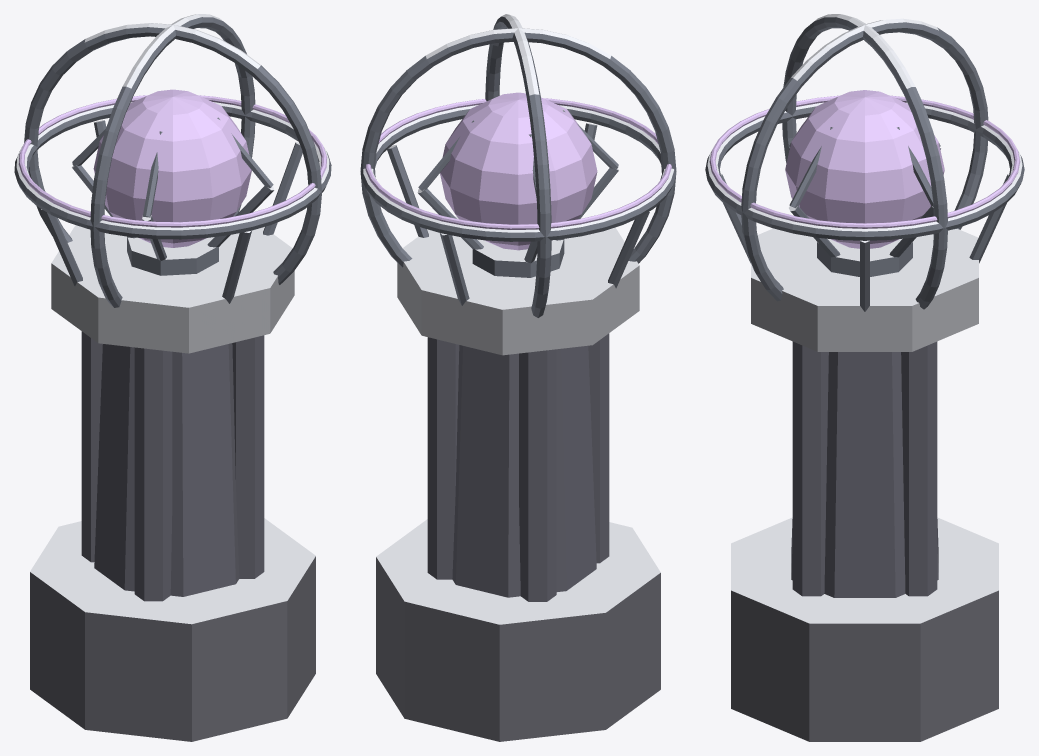
File: PR_Esfera_Harmonica.fbx
The picture shows the model from 3 angles, left to right: view 1: azimuth 30°, elevation 25°; view 2: azimuth 150°, elevation 25°; view 3: azimuth 270°, elevation 25°; orthographic projection.
Parts seen in each view (by area): view 1: PR_Esfera_Harmonica; view 2: PR_Esfera_Harmonica; view 3: PR_Esfera_Harmonica.
Part boxes in pixels (left/top/right/bottom): PR_Esfera_Harmonica: left=14, top=14, right=331, bottom=741; PR_Esfera_Harmonica: left=360, top=14, right=676, bottom=741; PR_Esfera_Harmonica: left=705, top=14, right=1024, bottom=741.
Size of the model in its own units: 2.2 by 5.02 by 2.2.
